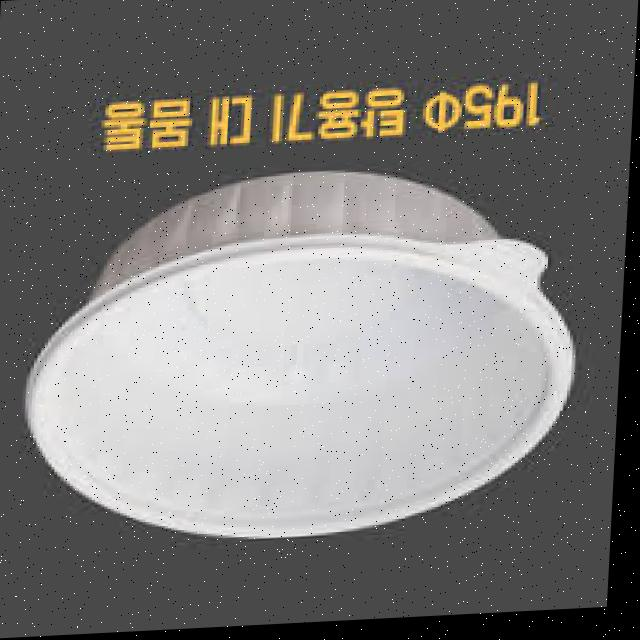disposable: (0, 143, 594, 569)
